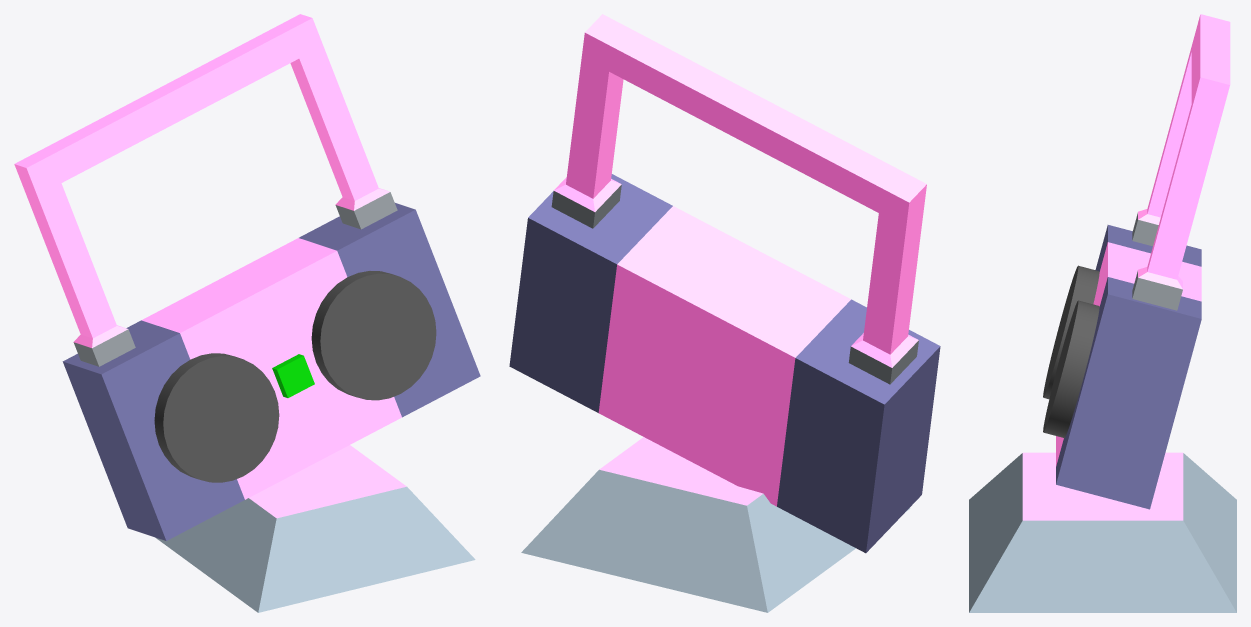
File: Boombox.fbx
3 renders of one model, left to right at view 1: azimuth 30°, elevation 25°; view 2: azimuth 150°, elevation 25°; view 3: azimuth 270°, elevation 25°, orthographic. The views are drawn at different scales.
Parts seen in each view (by area): view 1: pCube41, Boombox, pCube44, pCube43, pCylinder39, pCylinder40, pCube42; view 2: pCube41, Boombox, pCube44, pCube43; view 3: Boombox, pCube41, pCube43, pCube44, pCylinder39, pCylinder40.
Part boxes in pixels (x1=…): pCube41: x1=62, y1=203, x2=480, y2=540; Boombox: x1=155, y1=445, x2=475, y2=612; pCube44: x1=14, y1=89, x2=180, y2=366; pCube43: x1=158, y1=14, x2=397, y2=229; pCylinder39: x1=311, y1=271, x2=436, y2=400; pCylinder40: x1=154, y1=353, x2=279, y2=482; pCube42: x1=272, y1=354, x2=314, y2=397; pCube41: x1=509, y1=174, x2=940, y2=553; Boombox: x1=521, y1=437, x2=910, y2=612; pCube44: x1=744, y1=99, x2=926, y2=384; pCube43: x1=551, y1=14, x2=764, y2=228; Boombox: x1=969, y1=452, x2=1236, y2=612; pCube41: x1=1056, y1=225, x2=1201, y2=509; pCube43: x1=1132, y1=45, x2=1230, y2=310; pCube44: x1=1132, y1=14, x2=1230, y2=246; pCylinder39: x1=1043, y1=300, x2=1099, y2=437; pCylinder40: x1=1043, y1=265, x2=1099, y2=399.
Bounding box in the file's own units: 1.69 × 1.96 × 0.9374.
